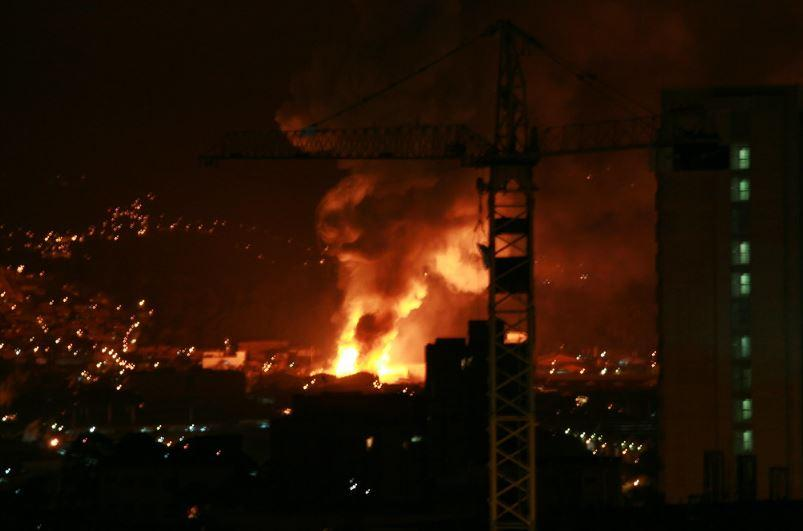Fire: (323, 334, 393, 382)
